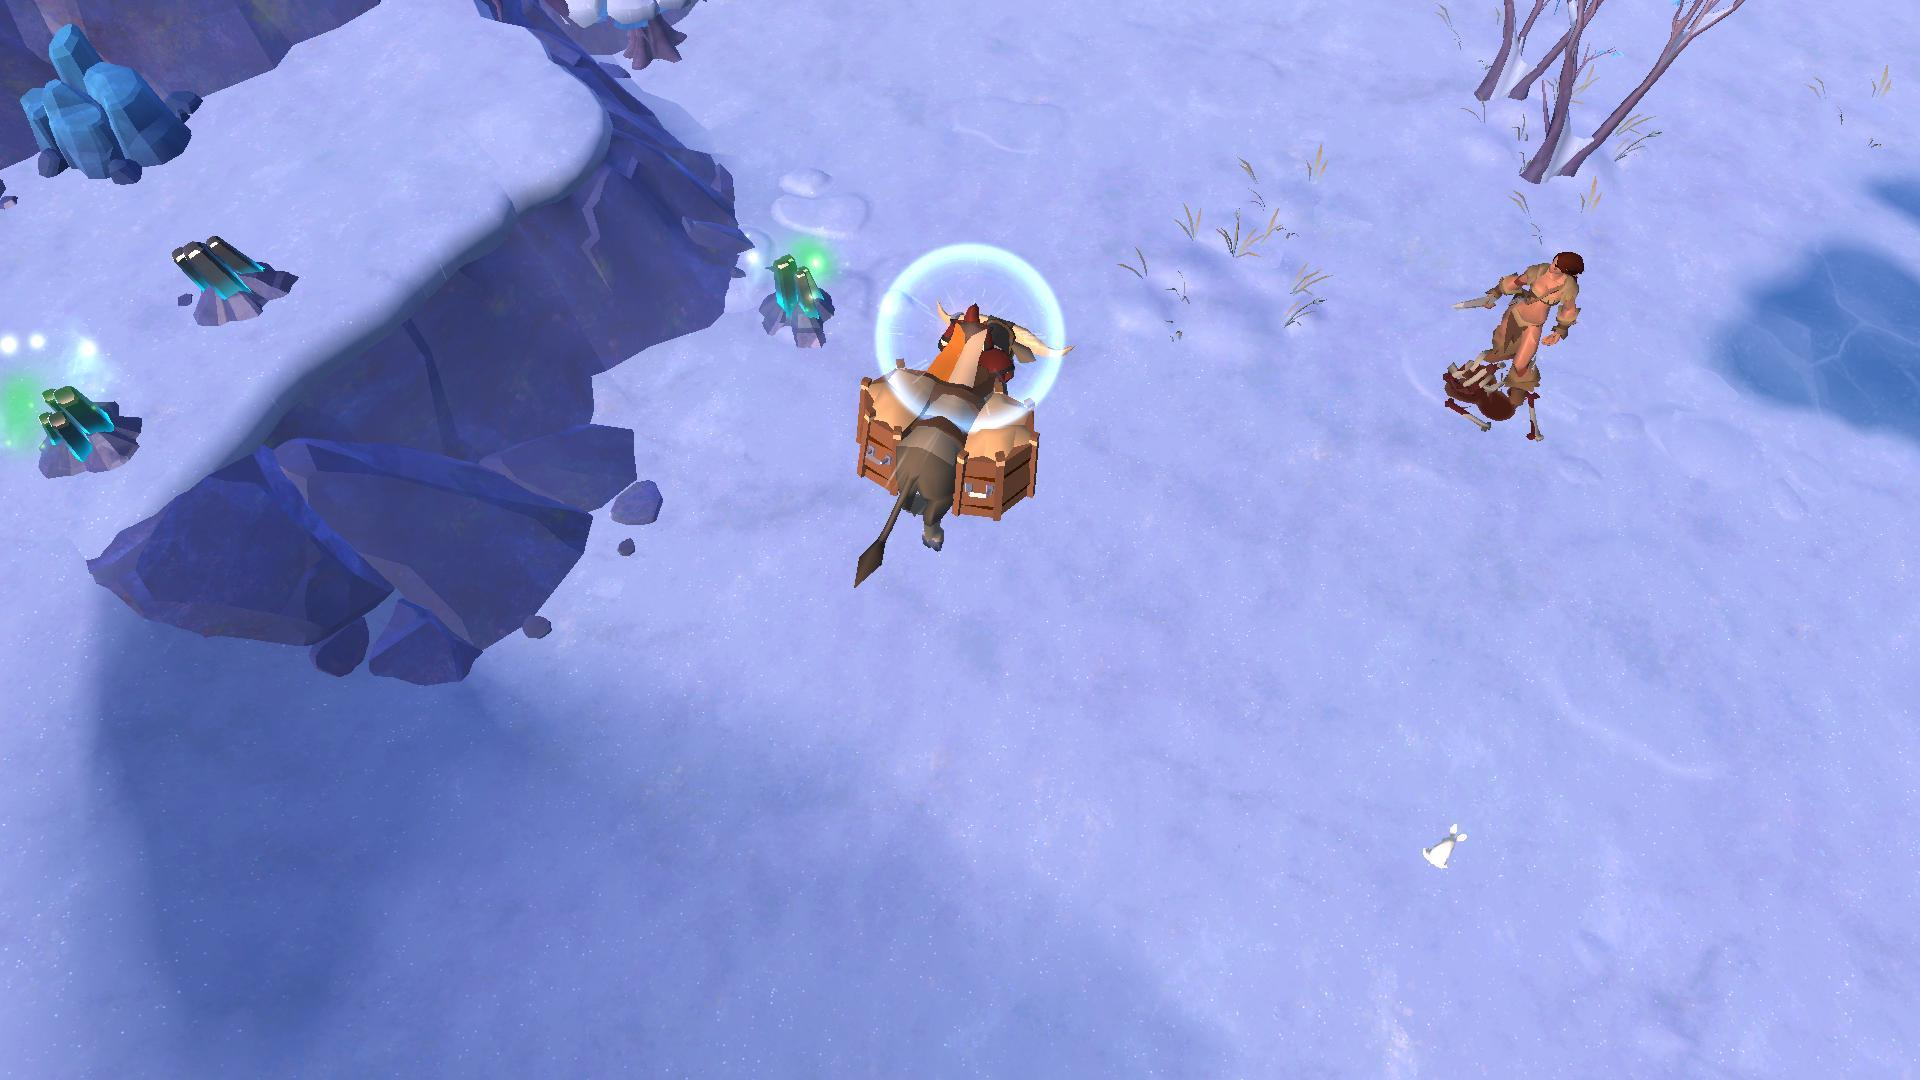enemy_factionKeeper: (1464, 247, 1592, 414)
ore_t4: (167, 231, 266, 301), (30, 380, 113, 463), (760, 247, 823, 315)
rock_t4: (12, 17, 207, 177)
